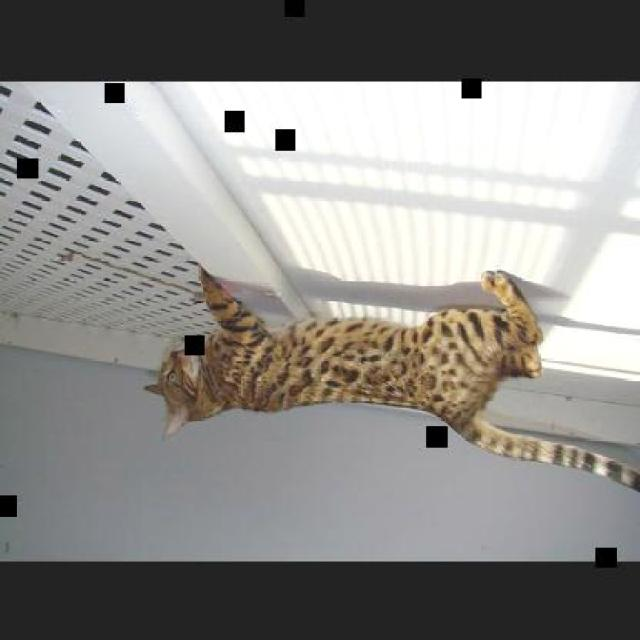unauthorized: (143, 263, 639, 499)
